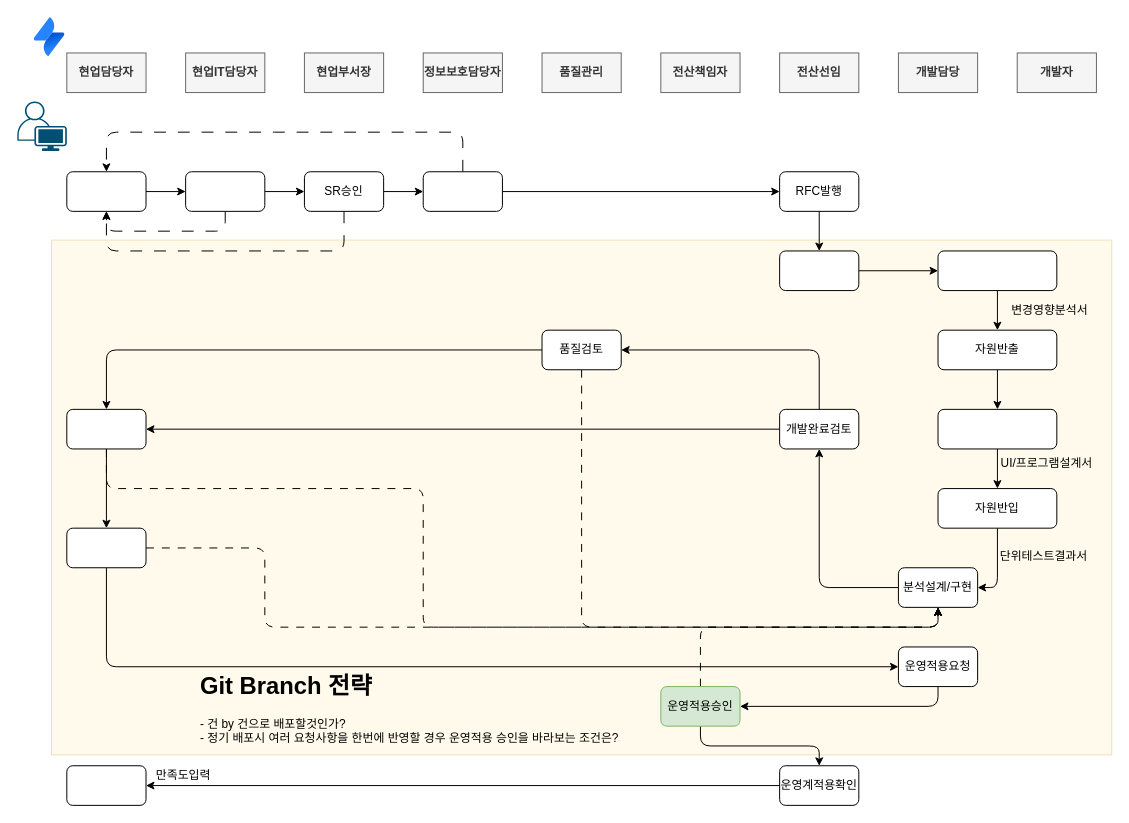
The diagram is 1129 pixels wide and 823 high, and some of its shapes have lost their labels. Each missing label, with the centre of its shape:
"RFC계획등록" belongs at point 819,270.
"SR검토" belongs at point 225,191.
"SR요청" belongs at point 106,191.
"개인정보검토" belongs at point 462,191.
"설계/구현" belongs at point 997,428.
"영향분석" belongs at point 997,270.
"인수테스트" belongs at point 106,547.
"인수확인" belongs at point 106,785.
"협업테스트" belongs at point 106,428.
